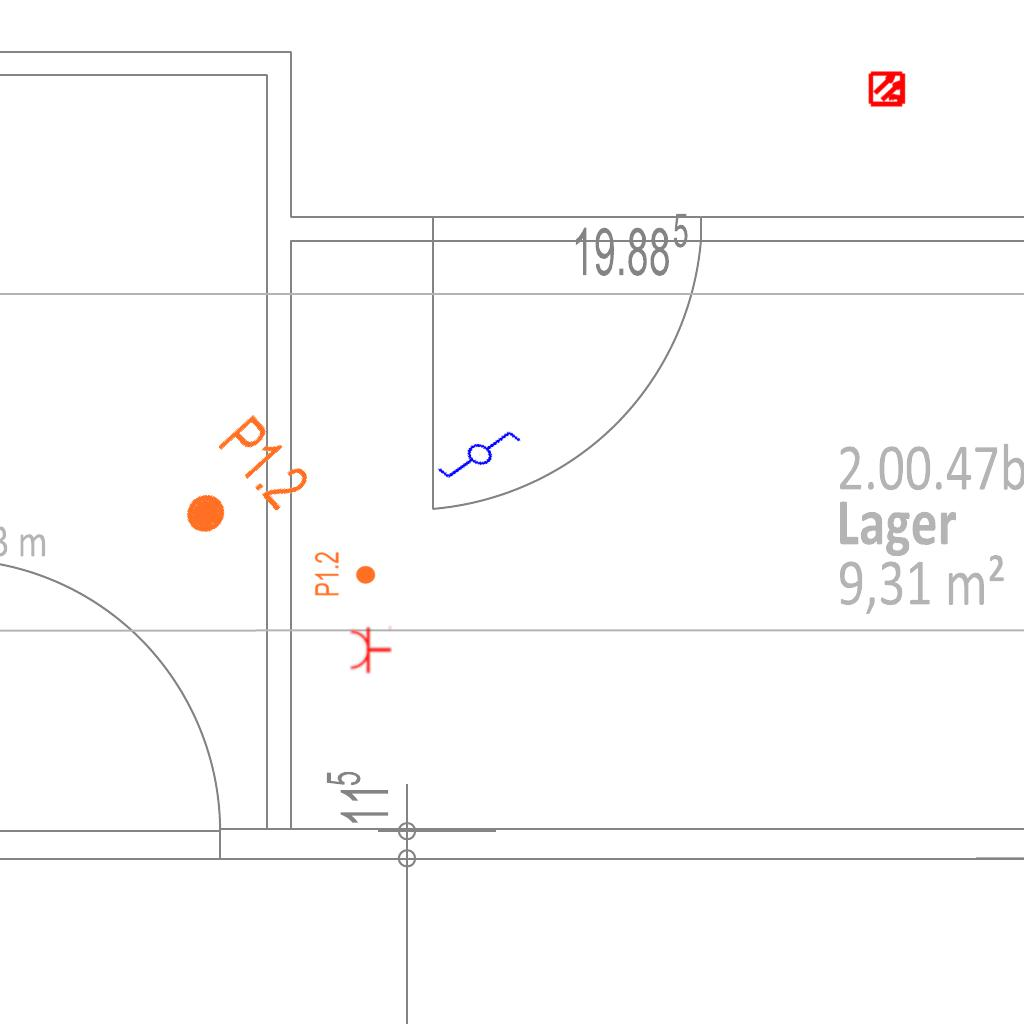Downlight_LED_Einbauleuchten_Flur: (158, 409, 317, 565), (313, 551, 377, 597)
OT_Multisensormelder_(Kombination_RMO_WMD): (860, 61, 916, 117)
Schukosteckdose_einfach: (349, 624, 392, 674)
Wechselschalter: (433, 409, 533, 505)
